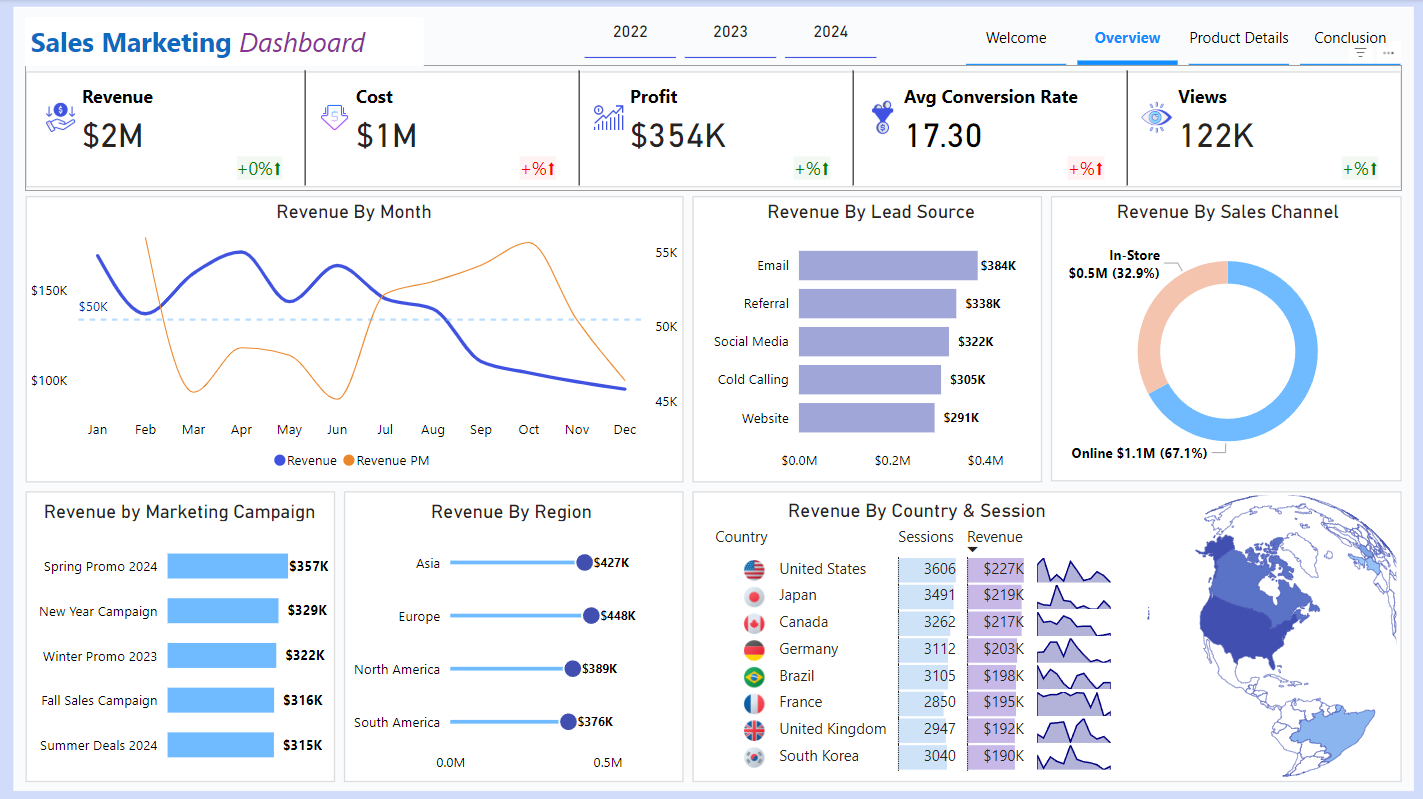

What the dashboard file says about the page in this screenshot:
{"tool":"powerbi","page":{"name":"Overview","canvas":[1280,720],"ordinal":1},"visuals":[{"type":"barChart","title":"Revenue By Lead Source","fields":{"Y":["All Measures.Revenue"],"Category":["dimLeadSource.Lead Source"]},"box":[630.2,180.4,303.4,252.3],"z":0},{"type":"cardVisual","fields":{"Data":["All Measures.Revenue","All Measures.Cost","All Measures.Profit","All Measures.Avg Conversion Rate","All Measures.Views"]},"box":[22.3,59.4,1236.4,113.2],"z":1000},{"type":"lineChart","title":"Revenue By Month","fields":{"Y":["All Measures.Revenue"],"Category":["Calendar.Month"],"Y2":["All Measures.Revenue PM"]},"box":[22.4,180.4,590.7,252.3],"z":2000},{"type":"donutChart","title":"Revenue By Sales Channel","fields":{"Y":["All Measures.Revenue"],"Category":["dimChannel.Sales Channel"]},"box":[945,180,313.8,252.5],"z":3000},{"type":"clusteredBarChart","fields":{"Category":["dimMarketingCampaign.Marketing Campaign"],"Y":["All Measures.Revenue"]},"box":[22.5,450,277.5,253.8],"z":4000},{"type":"clusteredBarChart","title":"Revenue By Region","fields":{"Y":["All Measures.Blank 1","All Measures.Revenue","All Measures.Blank 2"],"Category":["dimCountry.Region"]},"box":[305.2,449.8,307.9,254.1],"z":5000},{"type":"advancedSlicerVisual","fields":{"Values":["Calendar.Date.Variation.Date Hierarchy.Year"]},"box":[520.2,0,274.8,58.9],"z":6000},{"type":"tableEx","title":"Revenue By Country & Session ","fields":{"Values":["dimCountry.flag","dimCountry.Country","All Measures.Sessions","All Measures.Revenue","All Measures.Revenue Sparkline"]},"box":[630.7,449.1,384.1,254],"z":7000},{"type":"shapeMap","fields":{"Value":["All Measures.Revenue"],"Category":["dimCountry.Country"]},"box":[1014,441,245,263],"z":8000},{"type":"textbox","box":[22.5,16.2,357.5,43.8],"z":9000},{"type":"pageNavigator","box":[867.5,7.4,391.4,52.8],"z":10000}]}

Visuals, with their boxes in screenshot pixels (x1, y1, x2, y2), scaled from the page's 1280x720 canvas onto the 1423x799 screenshot:
"Revenue By Lead Source" barChart: select_region(701, 200, 1038, 480)
cardVisual - All Measures.Revenue x All Measures.Cost: select_region(25, 66, 1399, 192)
"Revenue By Month" lineChart: select_region(25, 200, 682, 480)
"Revenue By Sales Channel" donutChart: select_region(1051, 200, 1399, 480)
clusteredBarChart - dimMarketingCampaign.Marketing Campaign x All Measures.Revenue: select_region(25, 499, 334, 781)
"Revenue By Region" clusteredBarChart: select_region(339, 499, 682, 781)
advancedSlicerVisual - Calendar.Date.Variation.Date Hierarchy.Year: select_region(578, 0, 884, 65)
"Revenue By Country & Session " tableEx: select_region(701, 498, 1128, 780)
shapeMap - All Measures.Revenue x dimCountry.Country: select_region(1127, 489, 1400, 781)
textbox: select_region(25, 18, 422, 67)
pageNavigator: select_region(964, 8, 1400, 67)
